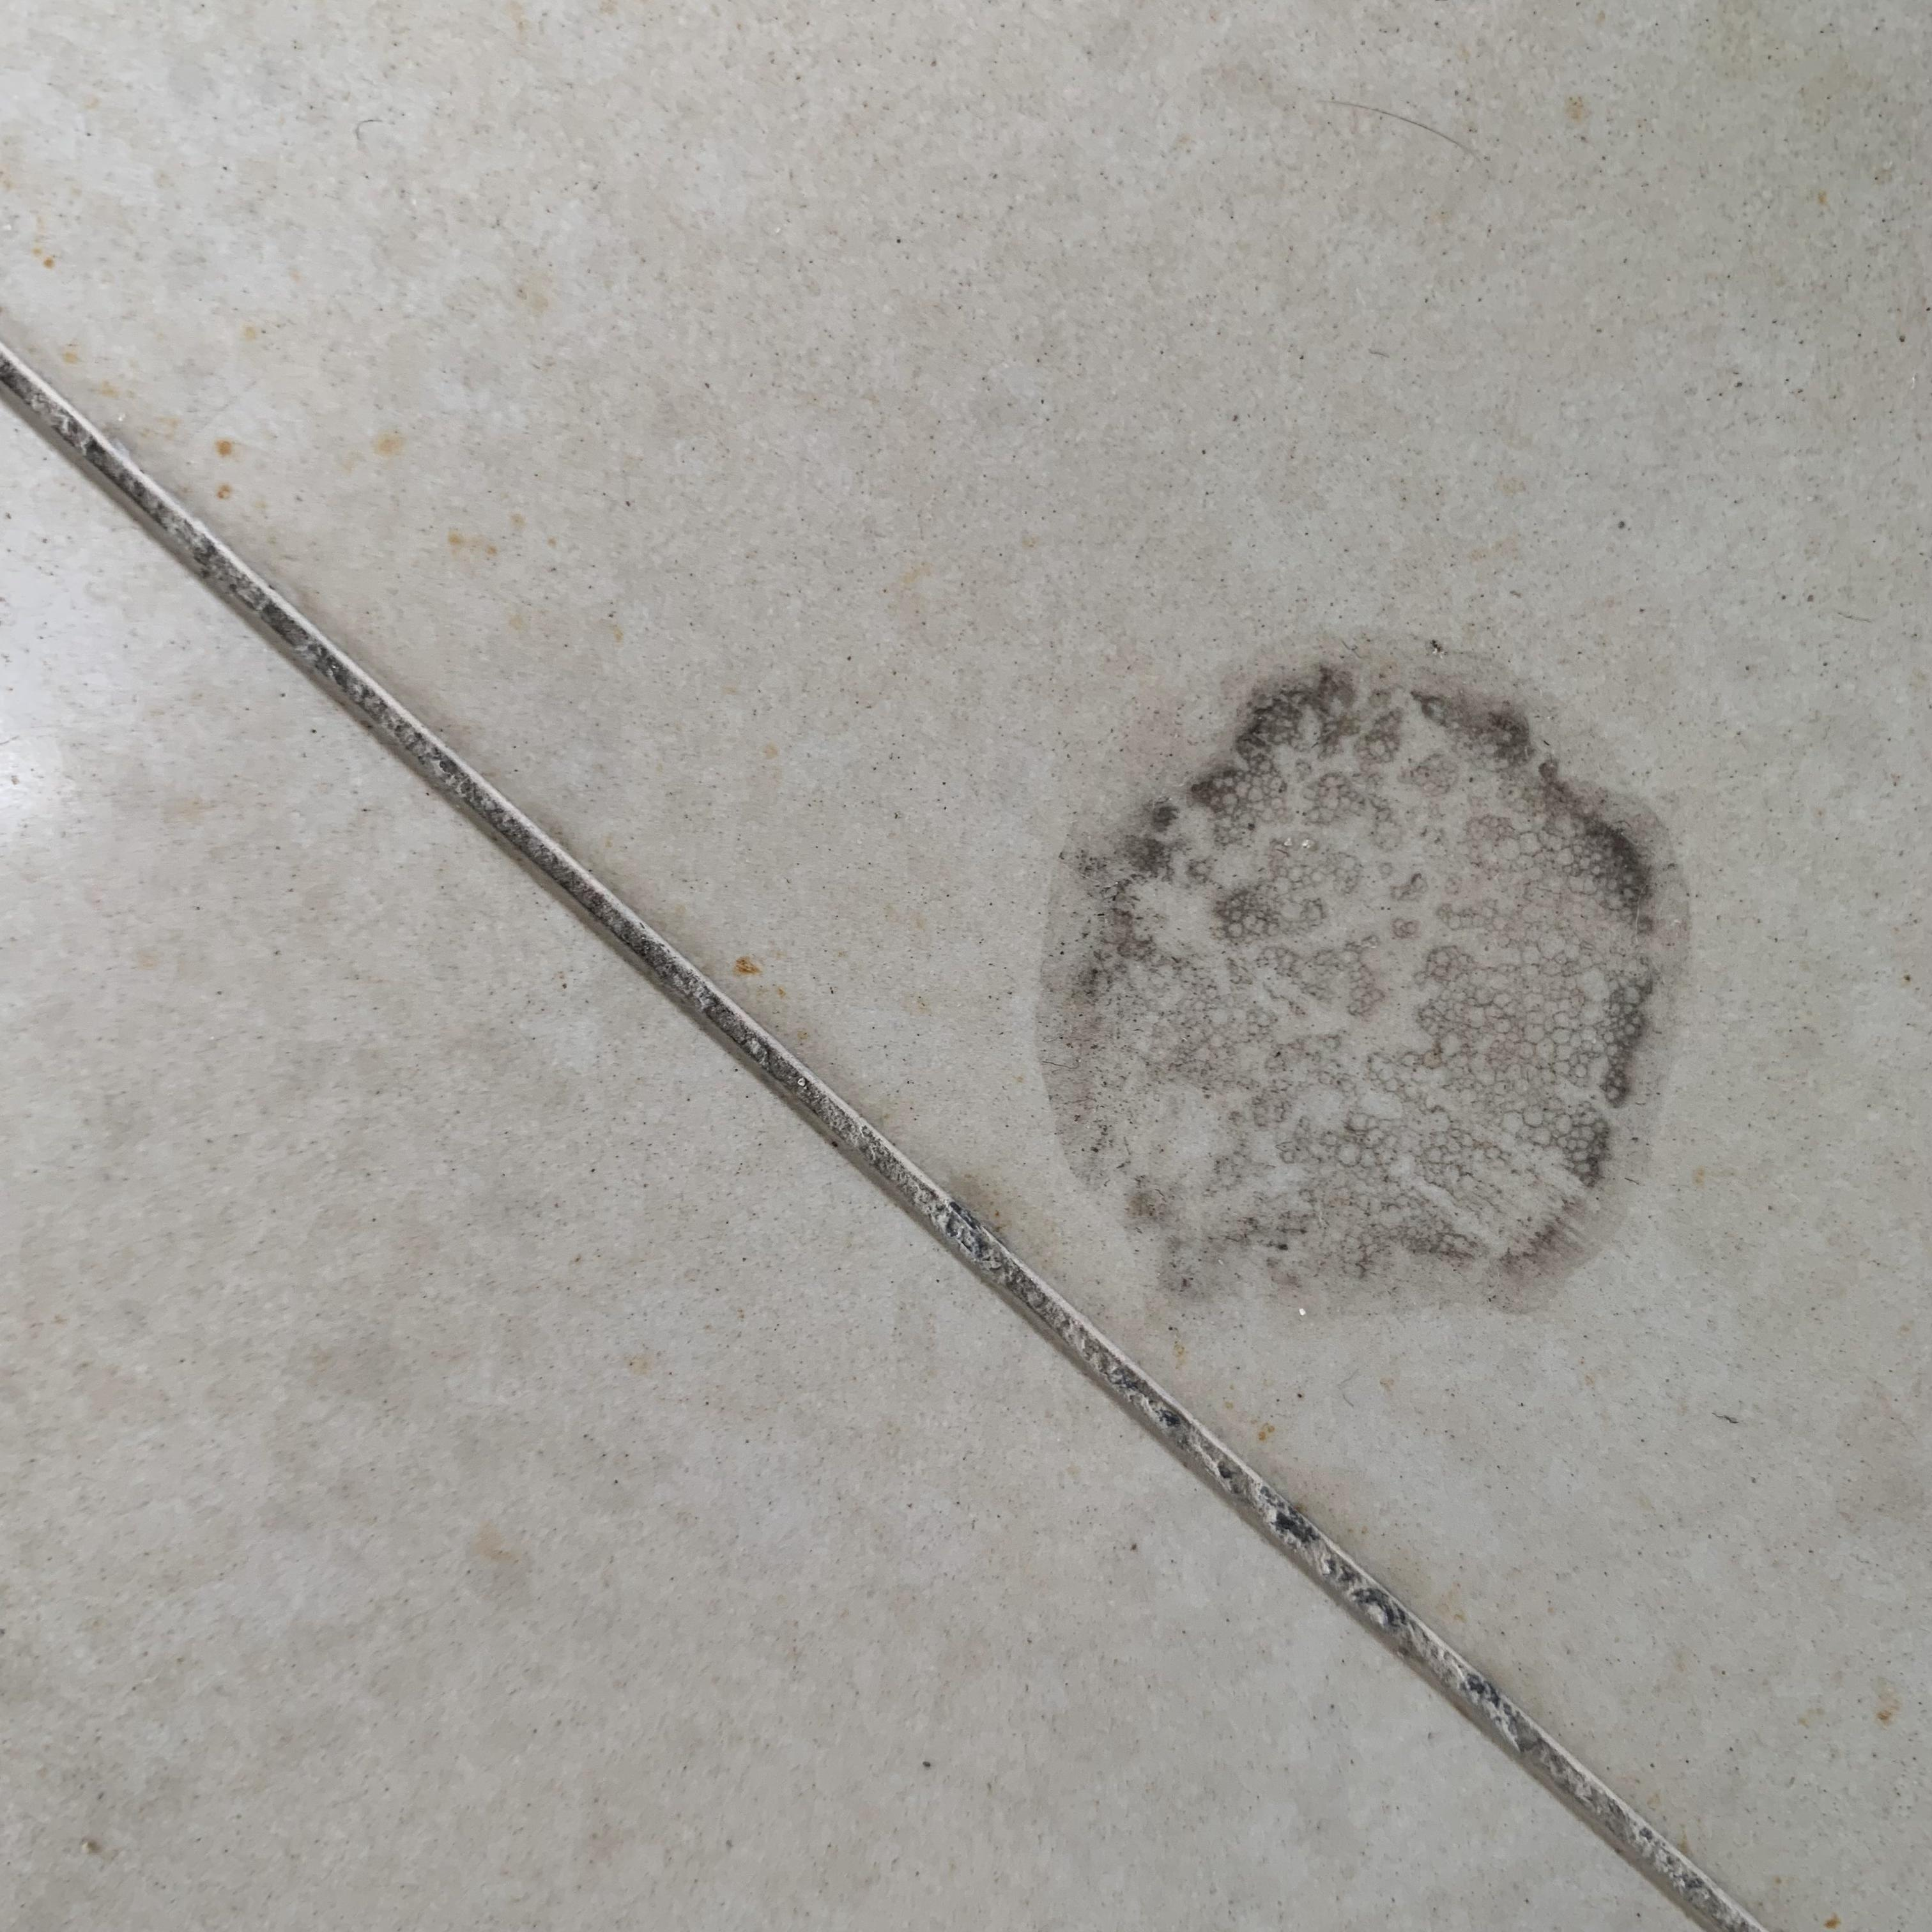grey spot: (1037, 630, 1697, 1320)
